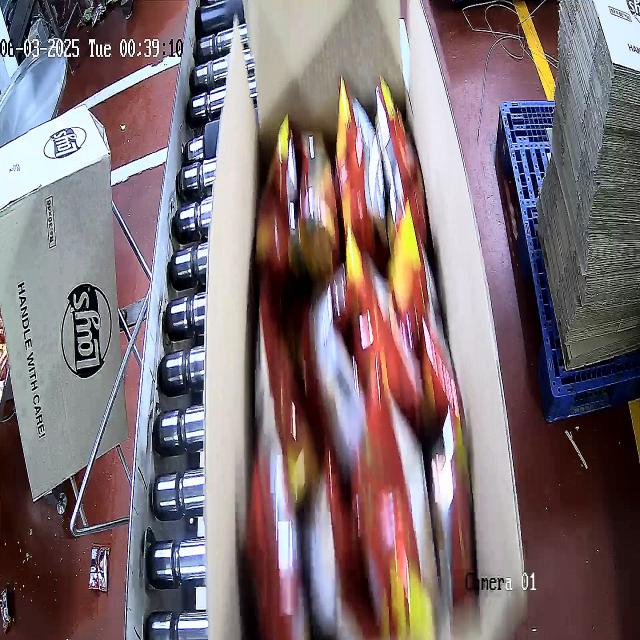MASALA: (246, 73, 474, 638)
